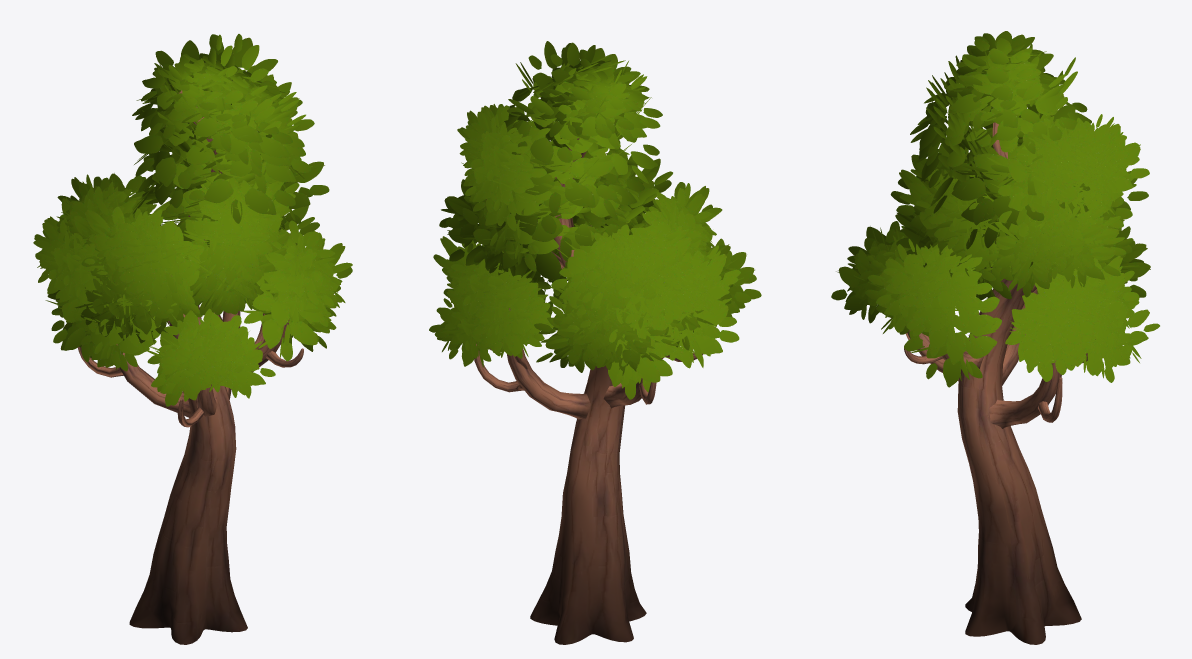
File: tree2.glb
The picture shows the model from 3 angles, left to right: view 1: azimuth 30°, elevation 25°; view 2: azimuth 150°, elevation 25°; view 3: azimuth 270°, elevation 25°; orthographic projection. The views are drawn at different scales.
Parts seen in each view (by area): view 1: CommonTree_2; view 2: CommonTree_2; view 3: CommonTree_2.
Boxes of the visible parts, x1,y1,x2,y2 form: CommonTree_2: (33, 34, 352, 644); CommonTree_2: (429, 41, 761, 644); CommonTree_2: (831, 31, 1159, 644).
Bounding box in the file's own units: 4.46 × 7.64 × 4.28.
Materials: 2 (2 with a texture image).
